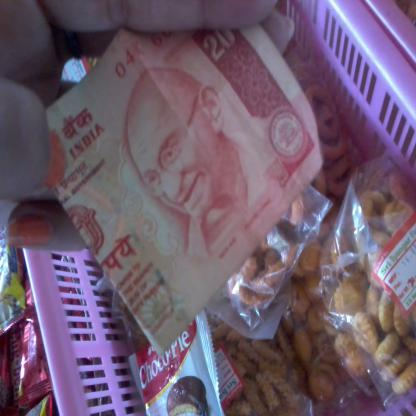Old20Front: (41, 10, 294, 289)
